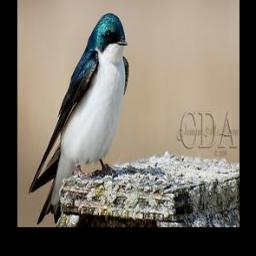Swallow: (28, 12, 129, 225)
